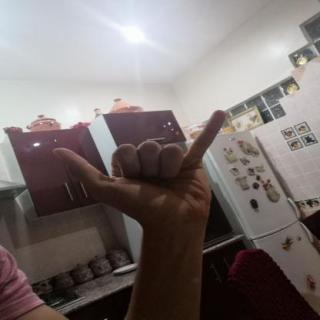YA: (40, 100, 248, 243)
